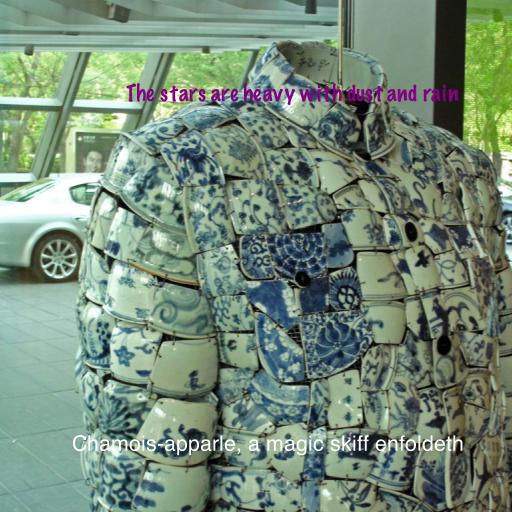Impact: (72, 435, 464, 456)
Marker Felt: (126, 83, 458, 105)
